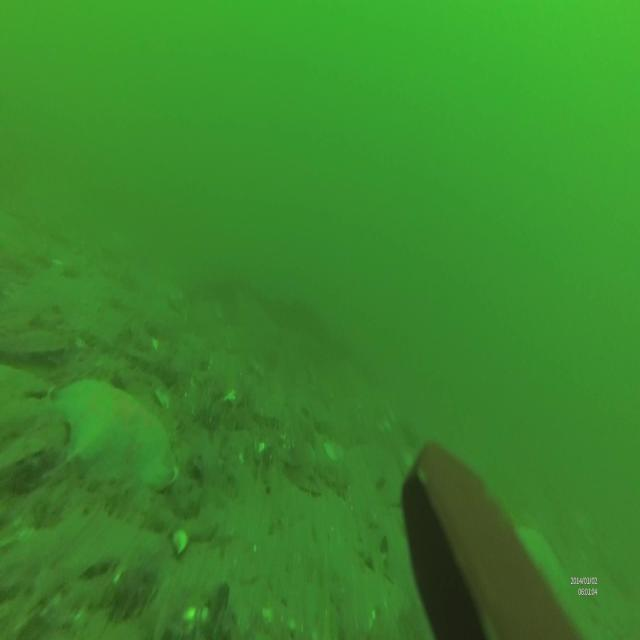echinus: (57, 380, 179, 490)
